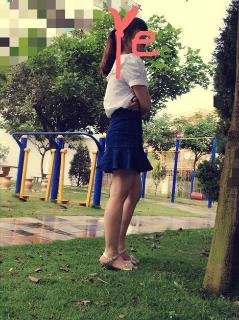short sleeve top: (104, 53, 150, 118)
skirt: (96, 107, 154, 173)
